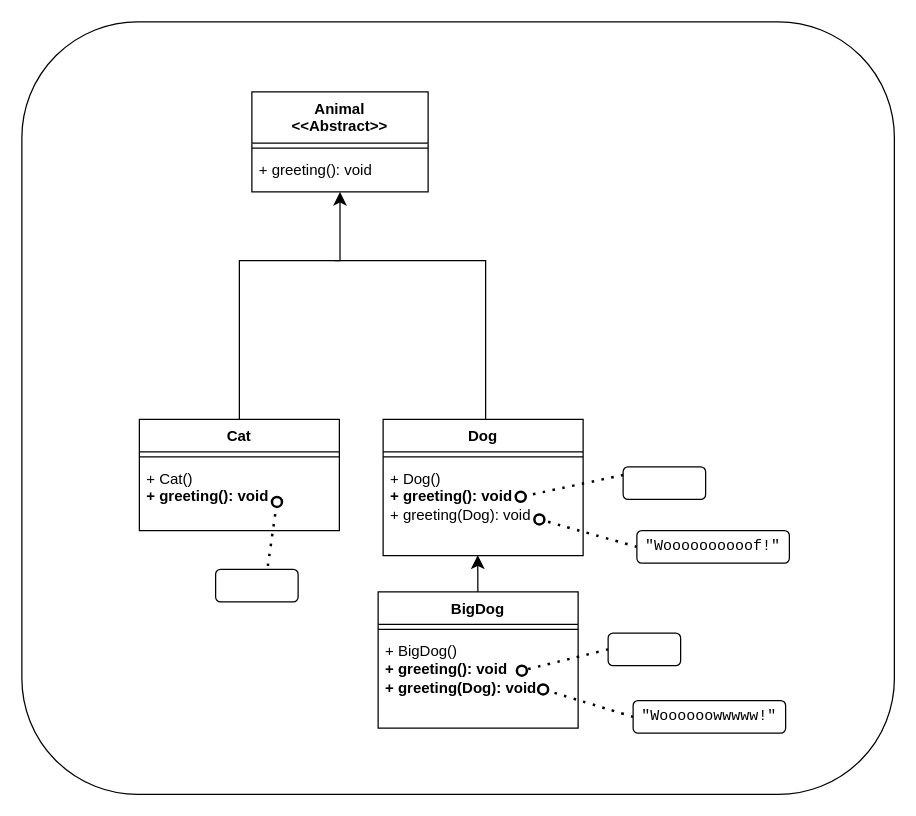
This 916x816 diagram has some shape labels left out. Here are the shapes that lost their labels. From the top down, the centre of each, then its label:
point (664, 482): "Woof!"
point (256, 585): "Meow!"
point (644, 649): "Woow!"
